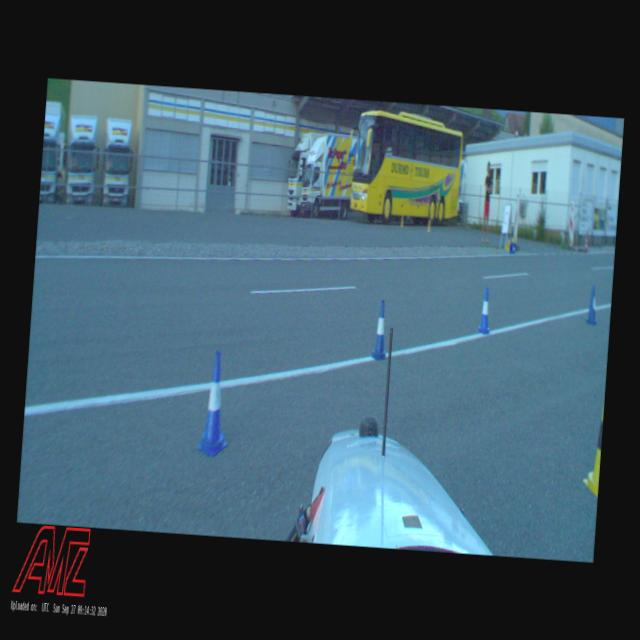blue_cone: (196, 350, 234, 457), (369, 298, 392, 361), (476, 287, 492, 334), (586, 284, 598, 324), (510, 240, 514, 253)
yellow_cone: (582, 394, 604, 498), (506, 238, 510, 250)
